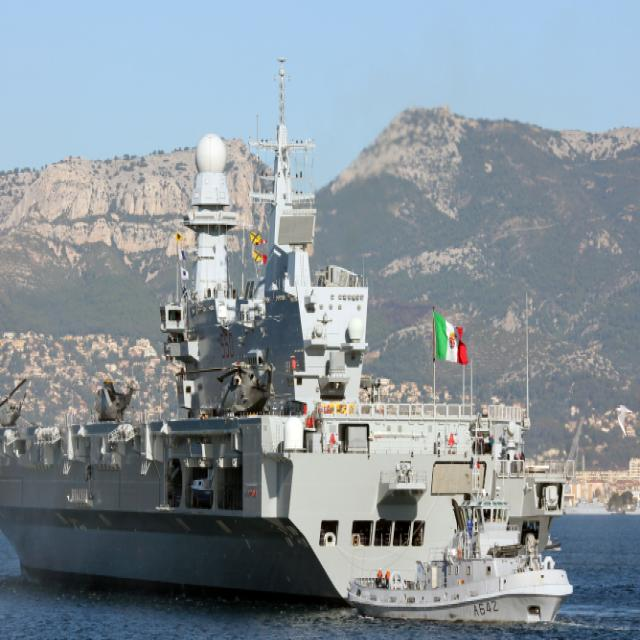Portanaves: (1, 36, 531, 615)
